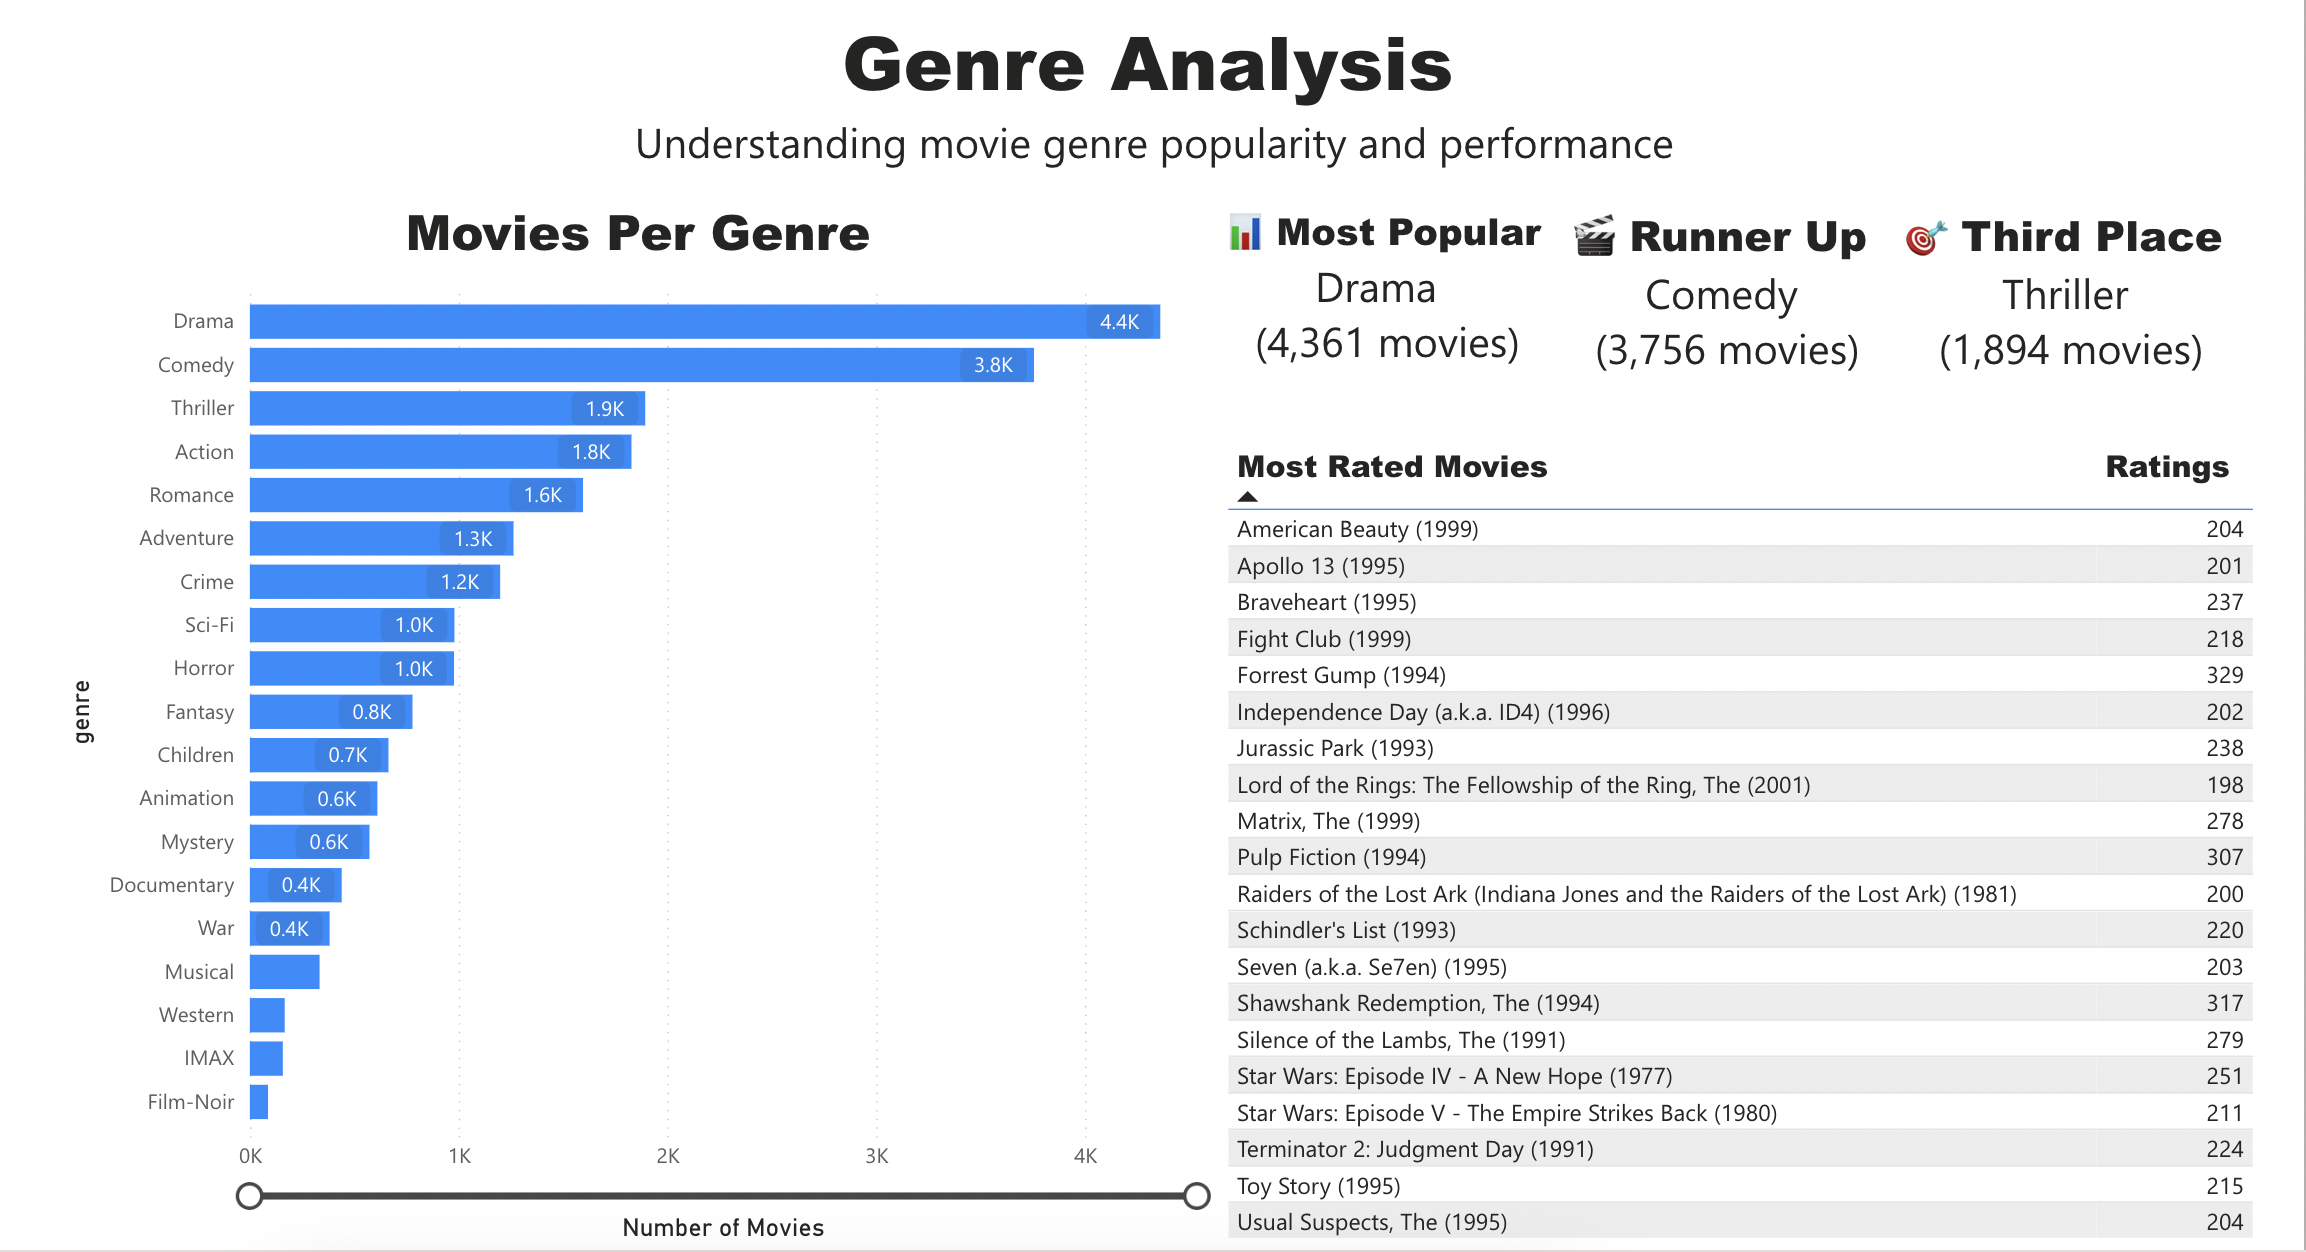

This screenshot's page, from the dashboard's own definition file:
{"tool":"powerbi","page":{"name":"Page 2","canvas":[1280,720],"ordinal":1},"visuals":[{"type":"textbox","box":[10.5,0,1269.5,108],"z":0},{"type":"barChart","title":"Movies Per Genre","fields":{"Y":["Sum(genre_popularity 1.movie_count)"],"Category":["genre_popularity 1.genre"]},"box":[10.5,112.7,668.2,607.9],"z":1},{"type":"tableEx","fields":{"Values":["most_rated_movies 1.title","most_rated_movies 1.num_ratings"]},"box":[678.6,250.2,601.4,470.3],"z":2},{"type":"textbox","box":[678.6,112.7,195.2,137.6],"z":3},{"type":"textbox","box":[873.9,112.7,195,137.6],"z":4},{"type":"textbox","box":[1059.9,112.7,220.1,137.6],"z":5}]}

Visuals, with their boxes on the page's 1280x720 design canvas (x1, y1, x2, y2). These are canvas units, not pixel positions in the 2306x1252 screenshot, which may show the page scaled, cropped or inside an application window:
textbox: BBox(10, 0, 1280, 108)
"Movies Per Genre" barChart: BBox(10, 113, 679, 721)
tableEx - most_rated_movies 1.title x most_rated_movies 1.num_ratings: BBox(679, 250, 1280, 720)
textbox: BBox(679, 113, 874, 250)
textbox: BBox(874, 113, 1069, 250)
textbox: BBox(1060, 113, 1280, 250)
